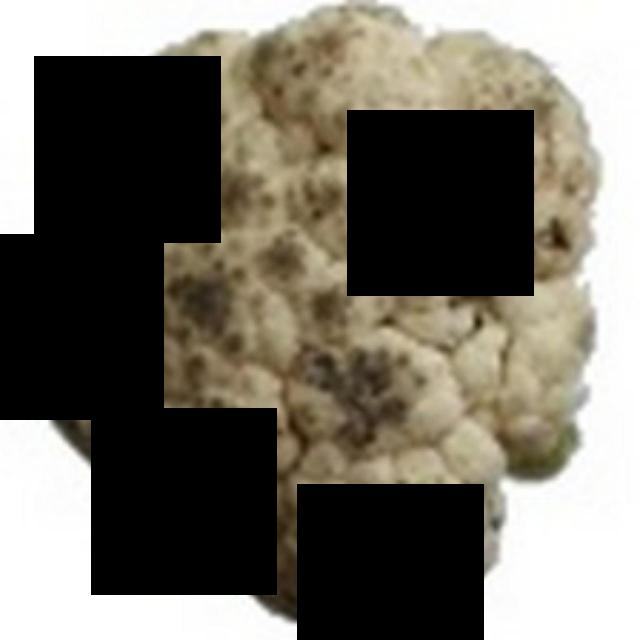cauliflower: (8, 0, 637, 637)
